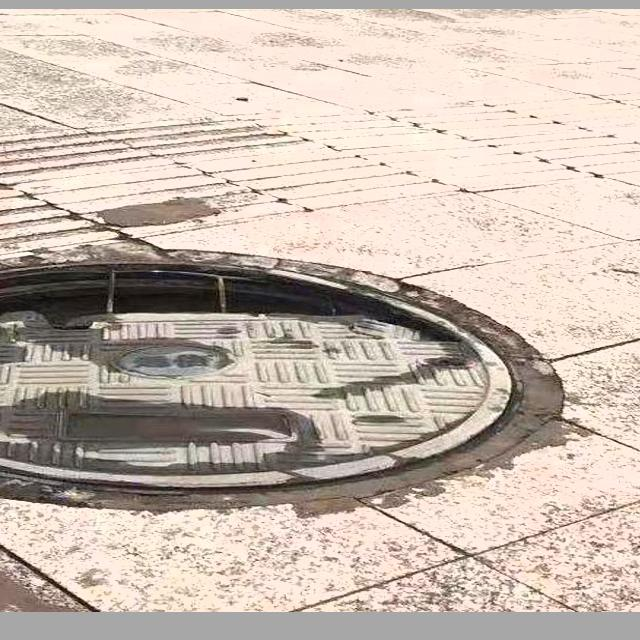broke: (0, 256, 521, 494)
